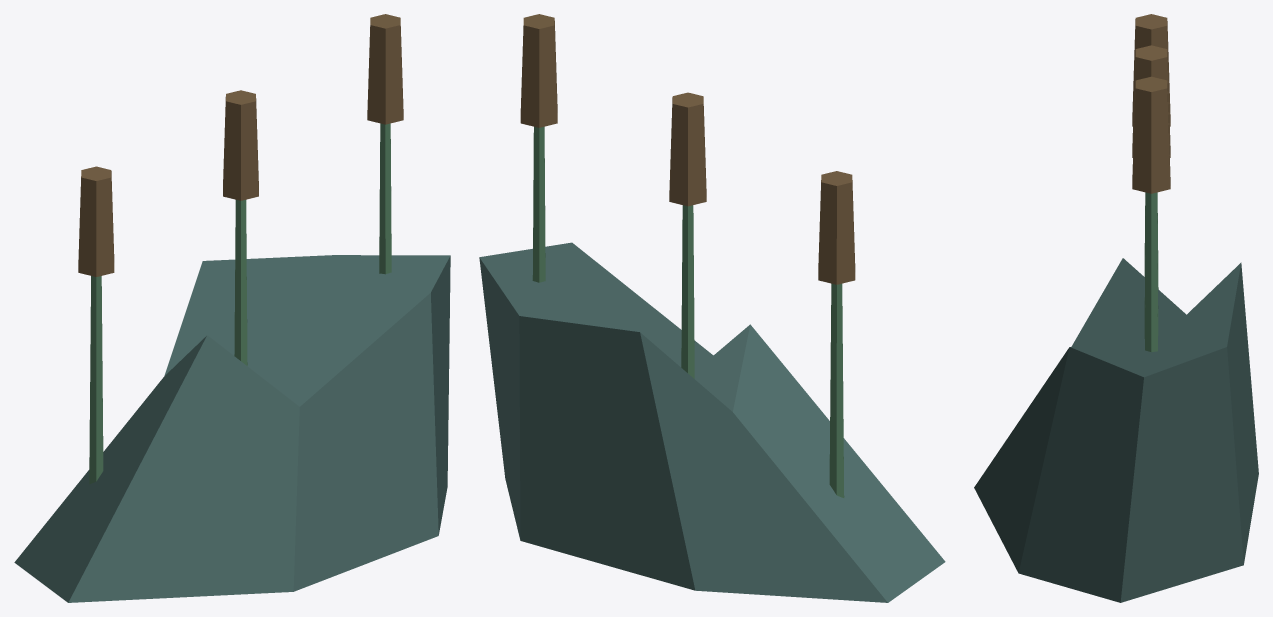
Rendered from map-boundaries-v5__lake_07.glb.
3 renders of one model, left to right at view 1: azimuth 30°, elevation 25°; view 2: azimuth 150°, elevation 25°; view 3: azimuth 270°, elevation 25°, orthographic. The views are drawn at different scales.
Parts seen in each view (by area): view 1: lake_07; view 2: lake_07; view 3: lake_07.
Part boxes in pixels (x1,y1,x2,y2): lake_07: [14, 14, 450, 602]; lake_07: [479, 14, 945, 602]; lake_07: [974, 14, 1258, 602].
Size of the model in its own units: 1.39 by 1.48 by 0.7737.
